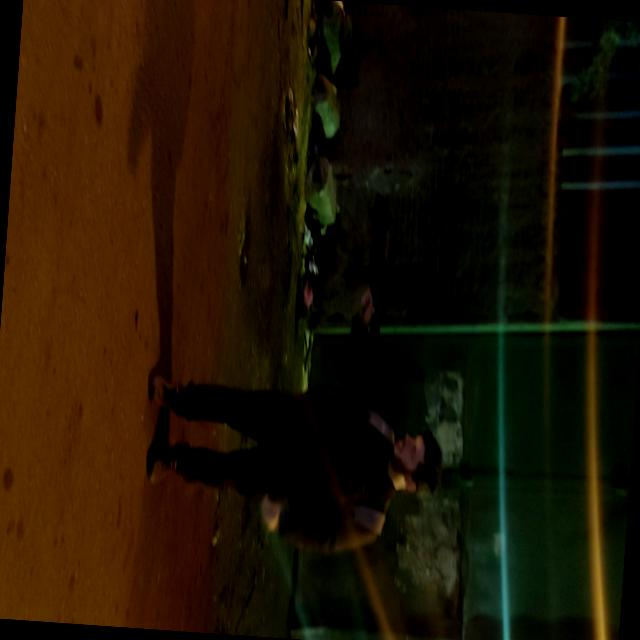long weapon: (338, 162, 412, 364)
